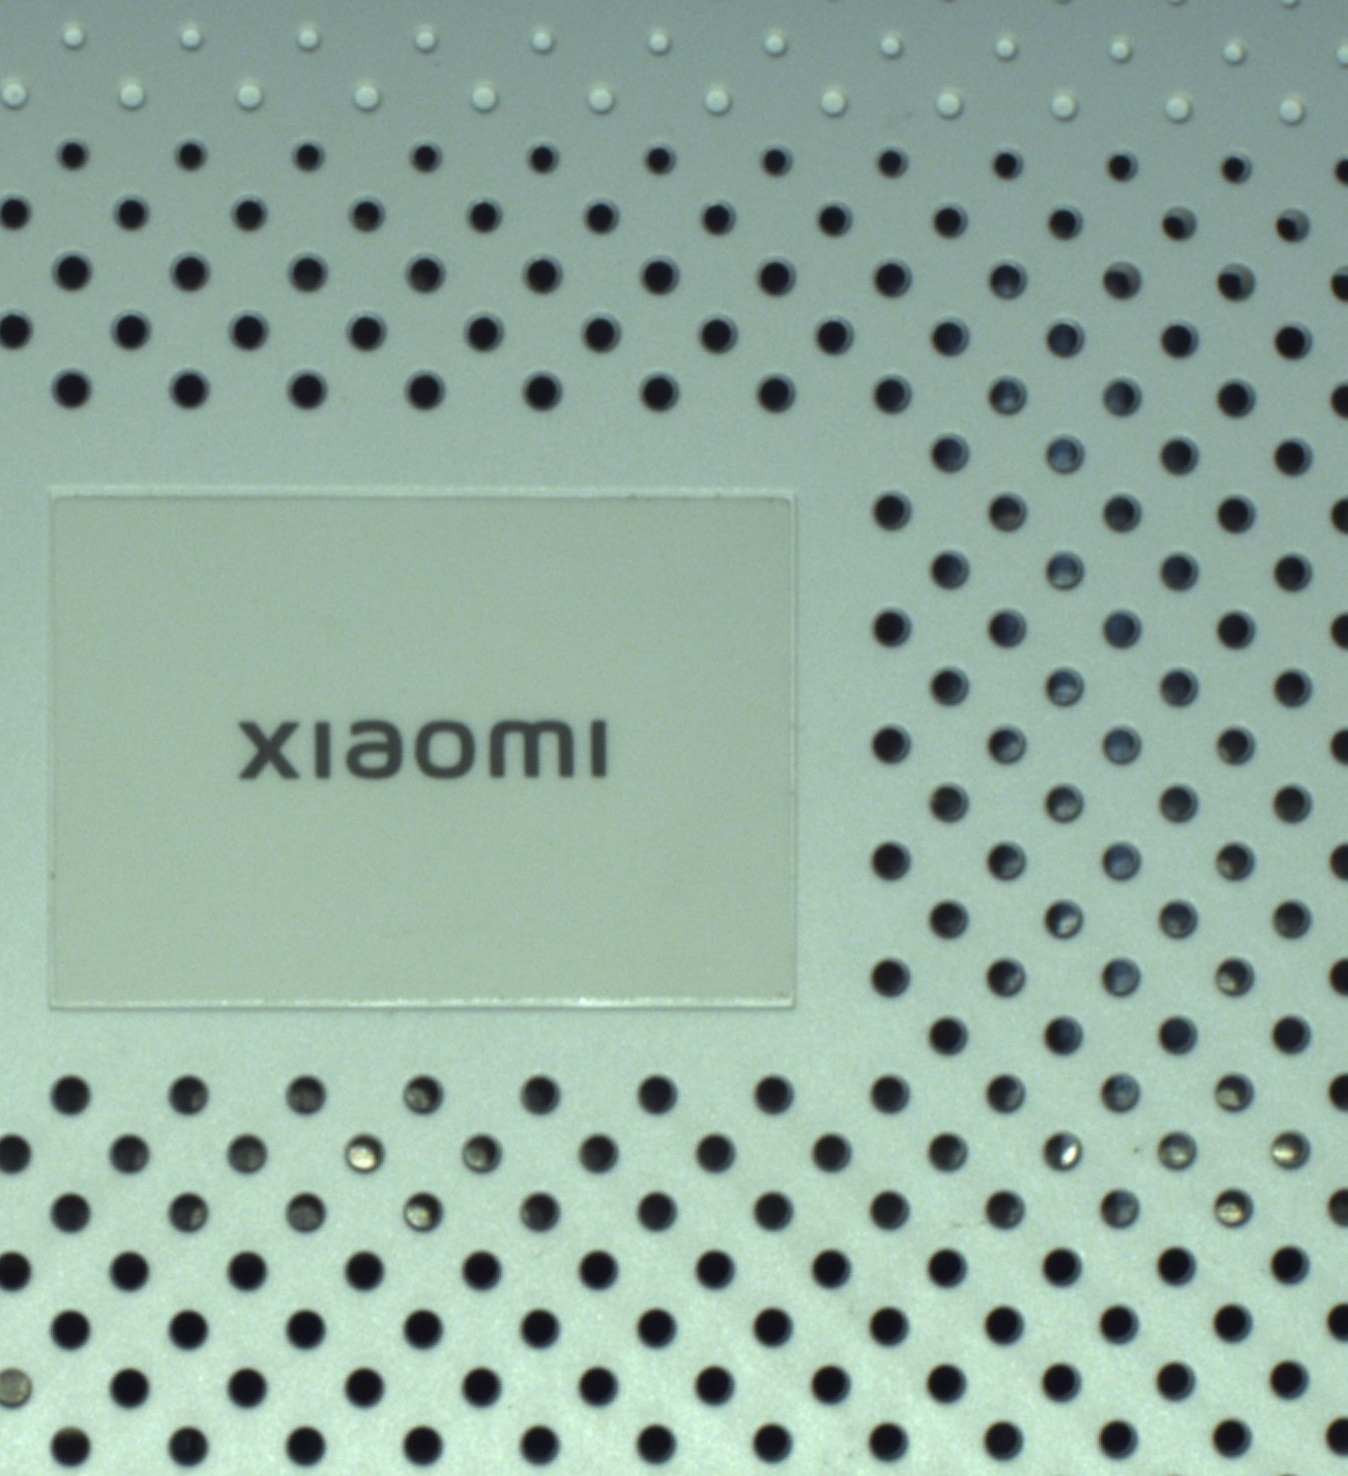MAB_OldUnicom: (221, 699, 621, 788)
